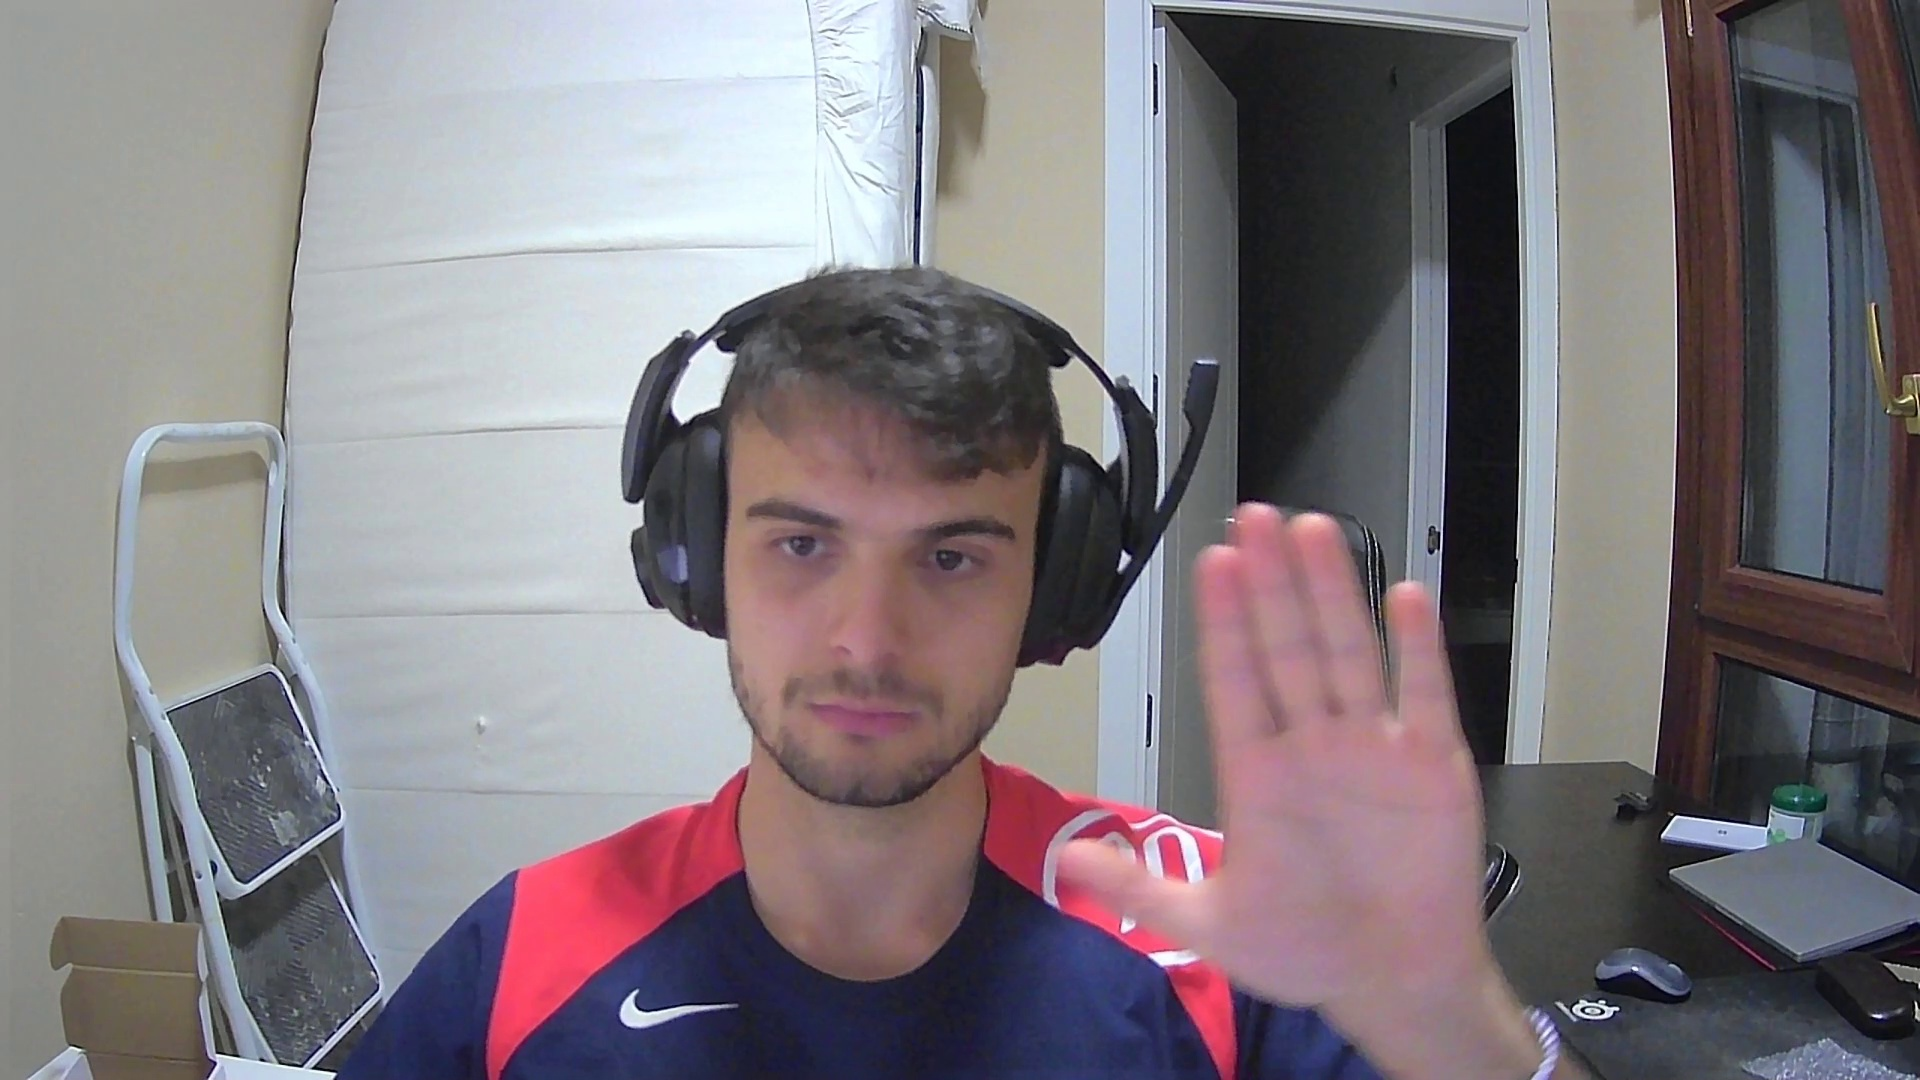Palm: (1062, 496, 1495, 1009)
